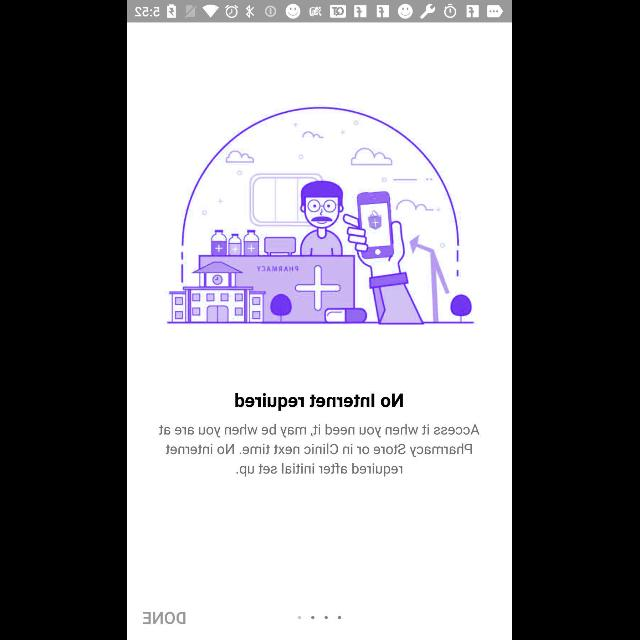image: (168, 106, 476, 324)
pageindicator: (298, 616, 342, 620)
text: (160, 423, 480, 477), (236, 392, 404, 412), (144, 612, 186, 624)
uppertaskbar: (128, 1, 512, 23)
